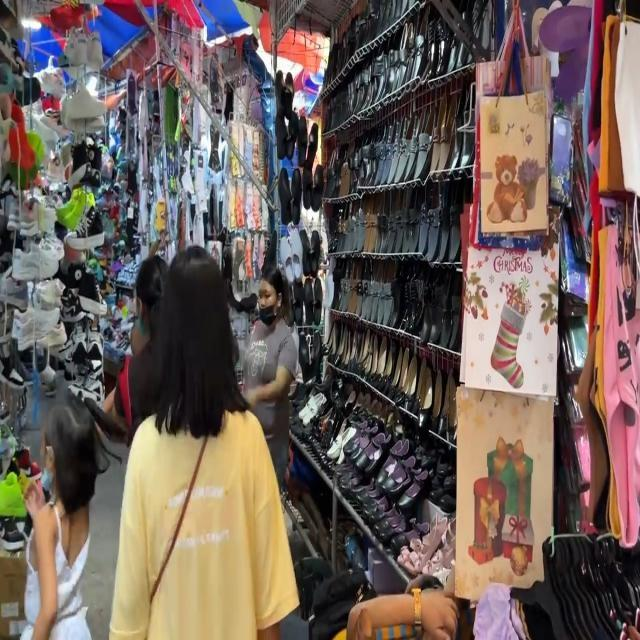hairnet: (258, 297, 279, 323)
